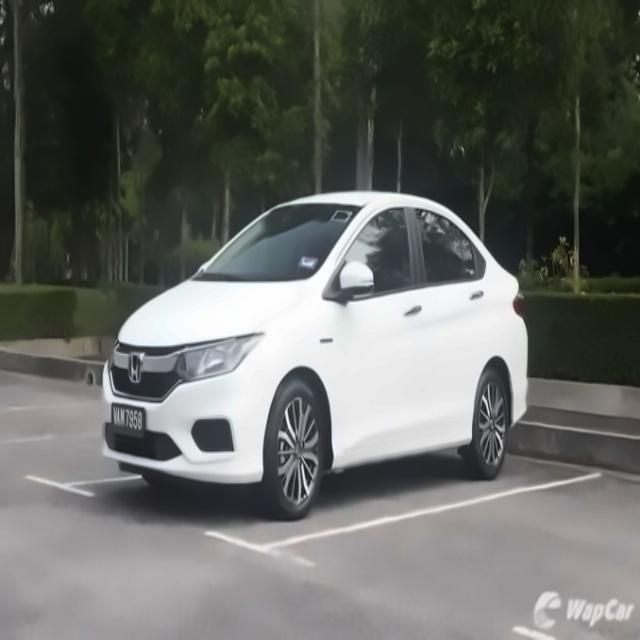Car hood: (116, 278, 297, 347)
Fender - -F-L-: (259, 279, 342, 474)
Fender - -R-L-: (472, 315, 529, 439)
Front bumper: (93, 372, 273, 490)
Headlight - -L-: (171, 326, 271, 390)
Passenger-s door - -F-L-: (341, 196, 423, 446)
Passenger-s door - -R-L-: (421, 197, 492, 445)
Rear light - -L-: (504, 367, 534, 432), (506, 276, 531, 322)
Side bumper - -L-: (324, 421, 482, 475)
Side mirror - -L-: (333, 258, 380, 312)
